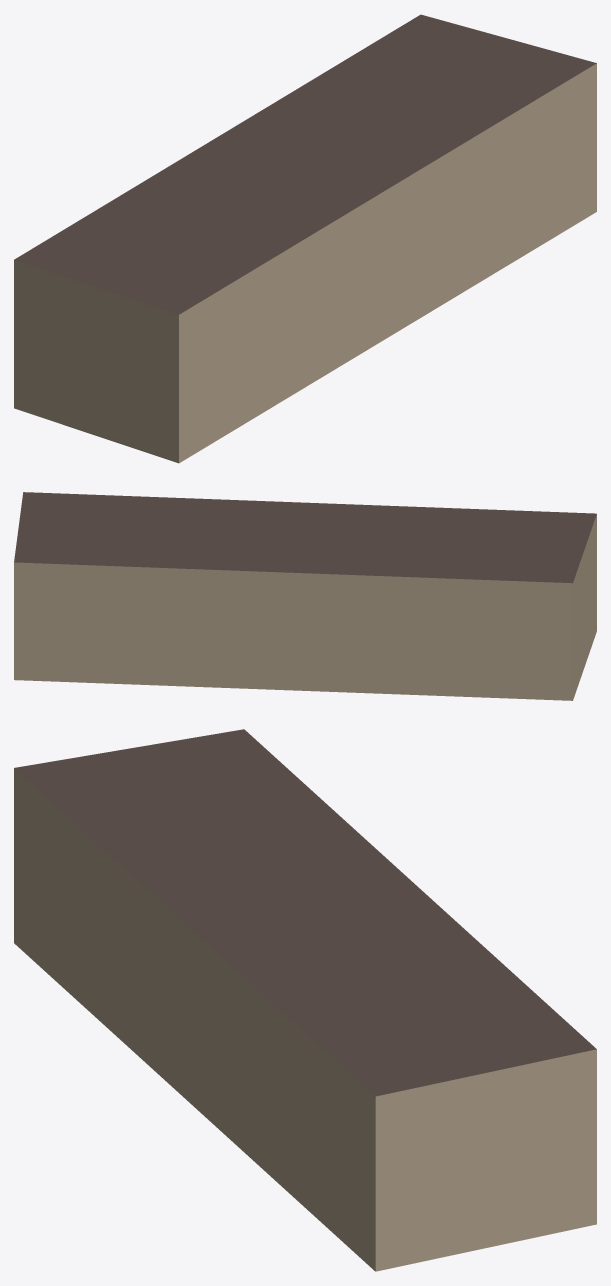
3 renders of one model, top to bottom at view 1: azimuth 30°, elevation 25°; view 2: azimuth 150°, elevation 25°; view 3: azimuth 270°, elevation 25°, orthographic. The views are drawn at different scales.
Parts seen in each view (by area): view 1: HP-w1197053245; view 2: HP-w1197053245; view 3: HP-w1197053245.
Boxes of the visible parts, x1,y1,x2,y2 form: HP-w1197053245: (14, 14, 596, 463); HP-w1197053245: (14, 492, 596, 700); HP-w1197053245: (14, 729, 596, 1271).
Bounding box in the file's own units: 40.47 × 9 × 27.14.
